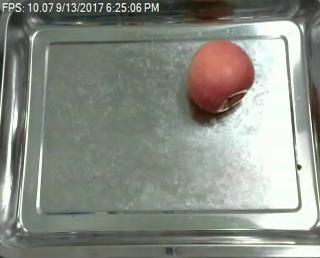apple: (186, 40, 255, 113)
